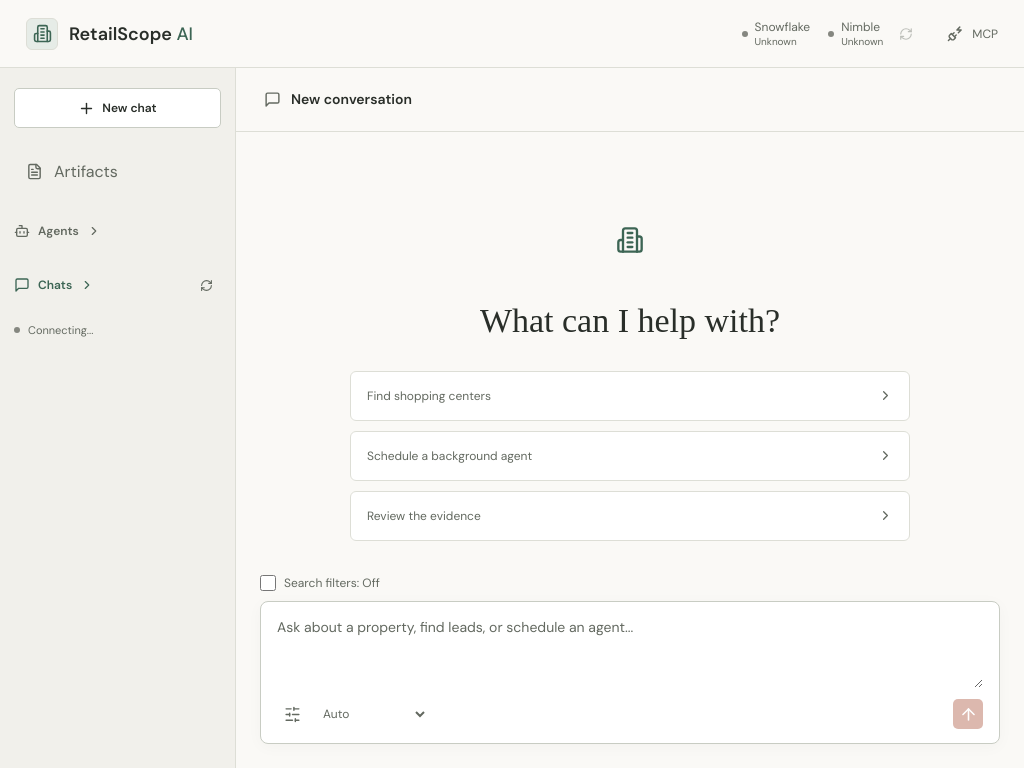
Scenario: chat-first workspace › keeps hi in free chat even with filters enabled
The width and height of the screenshot is (1024, 768).
Step 1. Click the checkbox labelled "Search filters: Off" → click(268, 583), box [260,575,276,591]
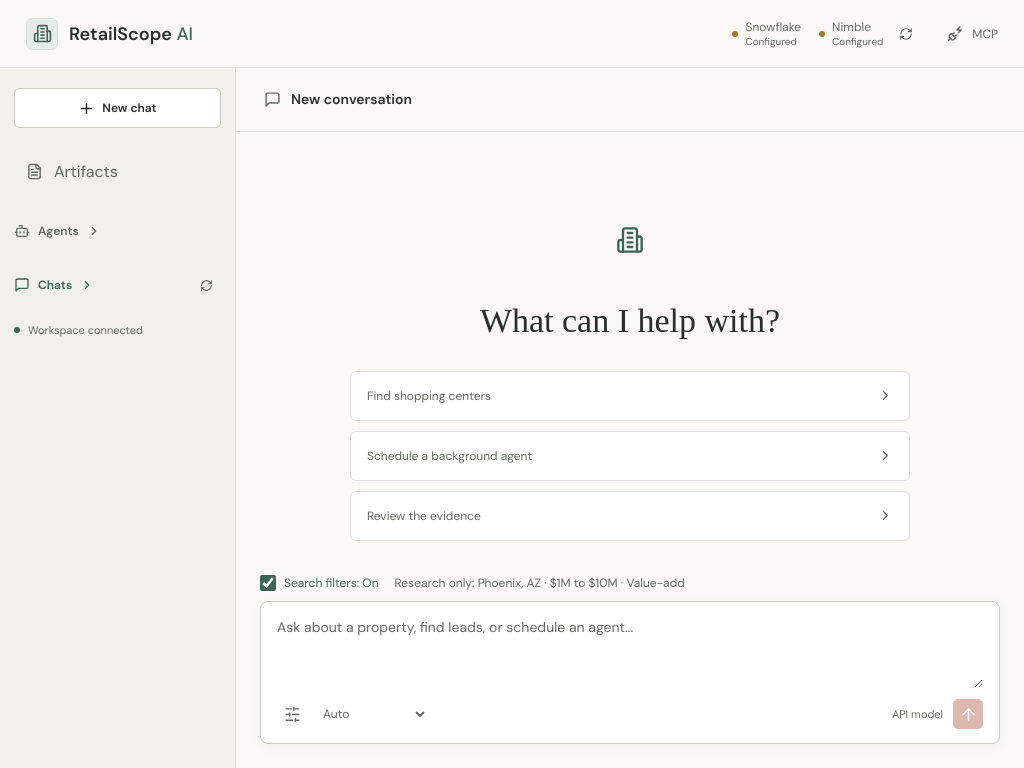
expect the text "Workspace connected" is shown: met, box [14,323,143,337]
Step 2. Type "hi" into the text box named "Message RetailScope" → (630, 652), box [277,616,983,688]
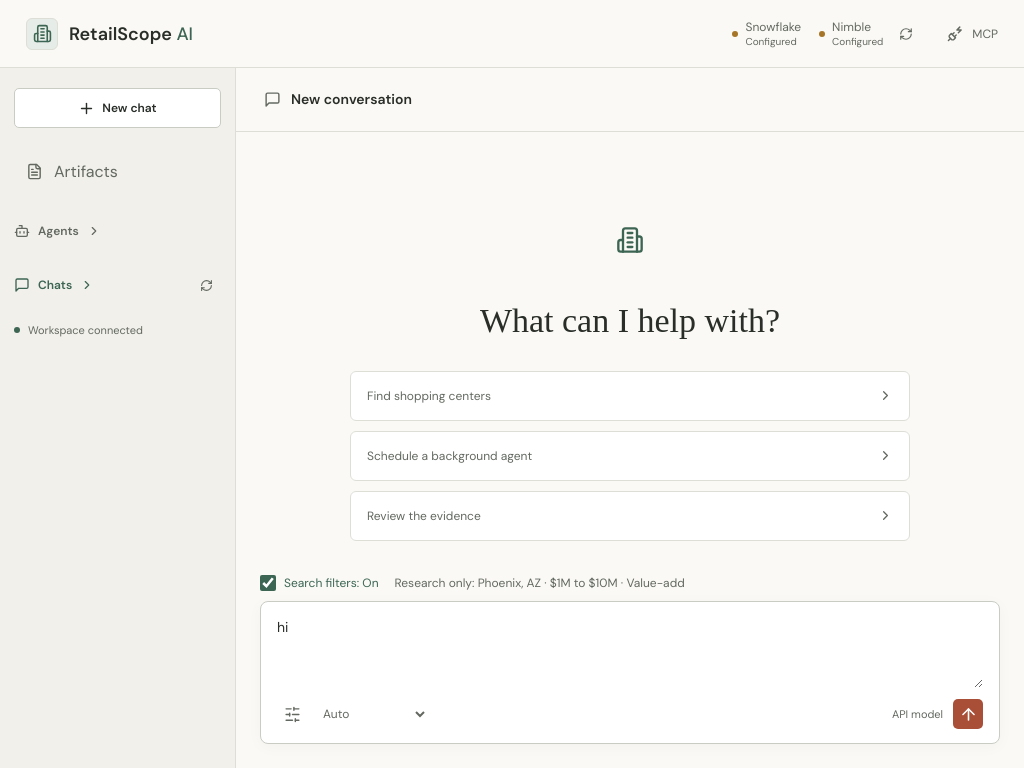
Step 3. Click the button named "Send message" → click(968, 714), box [953,699,983,729]
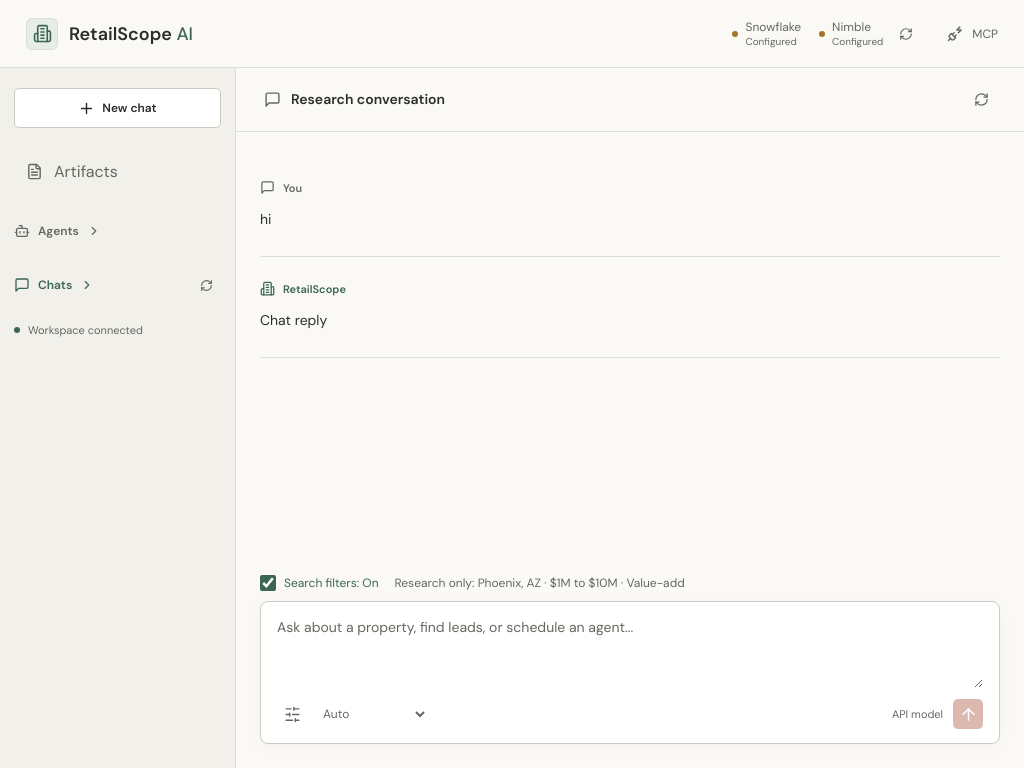
expect the text "Chat reply" is shown: met, box [260,311,327,329]
